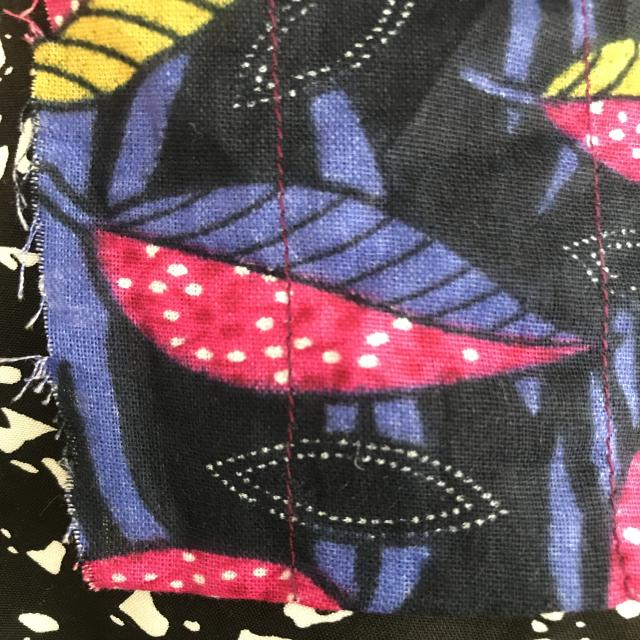good: (264, 107, 296, 199)
